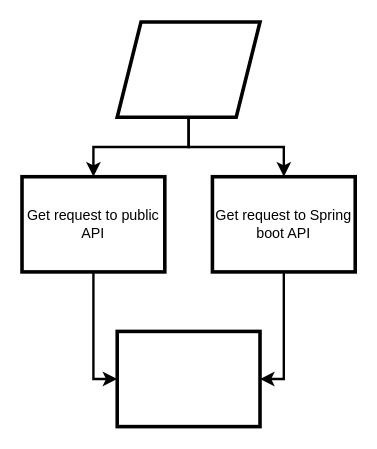
The diagram is 377 pixels wide and 449 high, and some of its shapes have lost their labels. Here are the shapes that lost their labels. From the top down, the centre of each, then its label:
point (188, 69): Frontend application
point (188, 378): Response shown in frontend application
